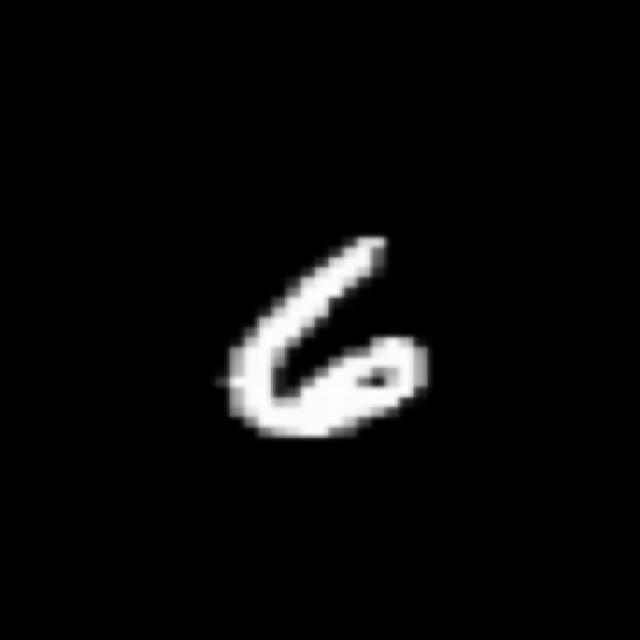six -6-: (213, 226, 441, 446)
